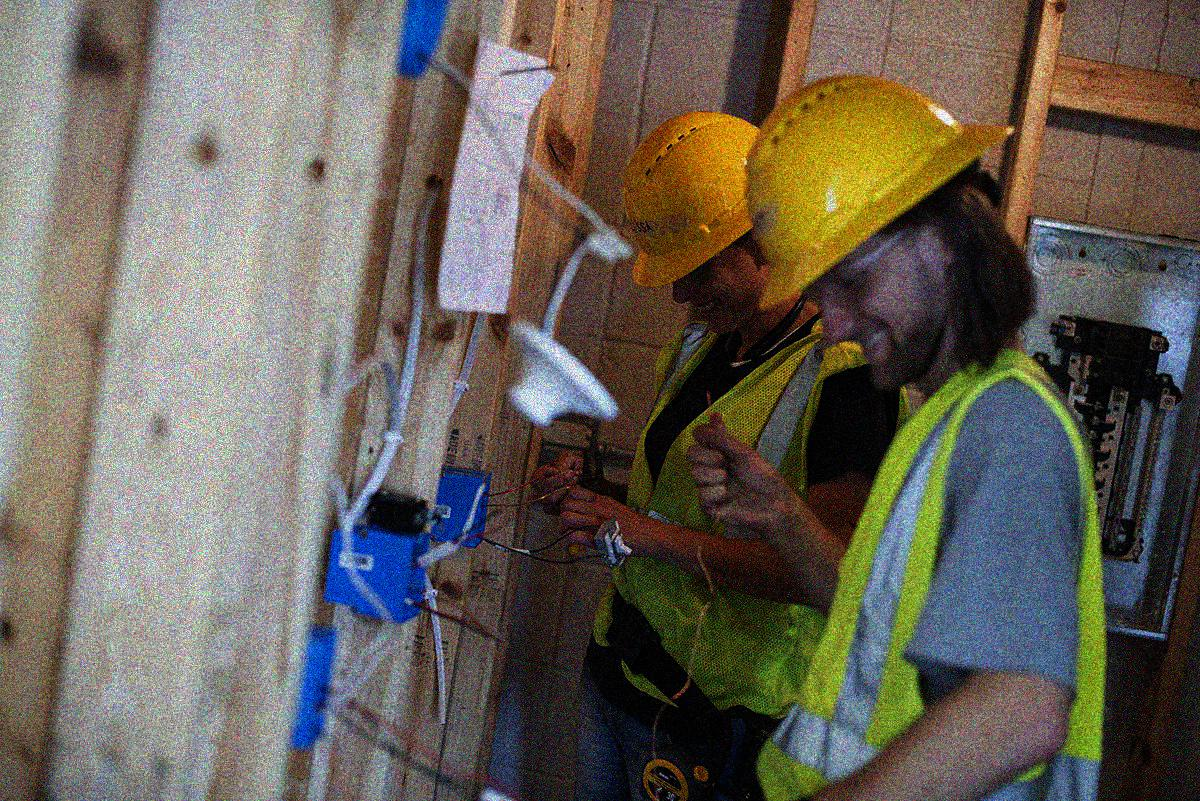helmet: (743, 71, 1025, 377), (618, 105, 791, 333)
